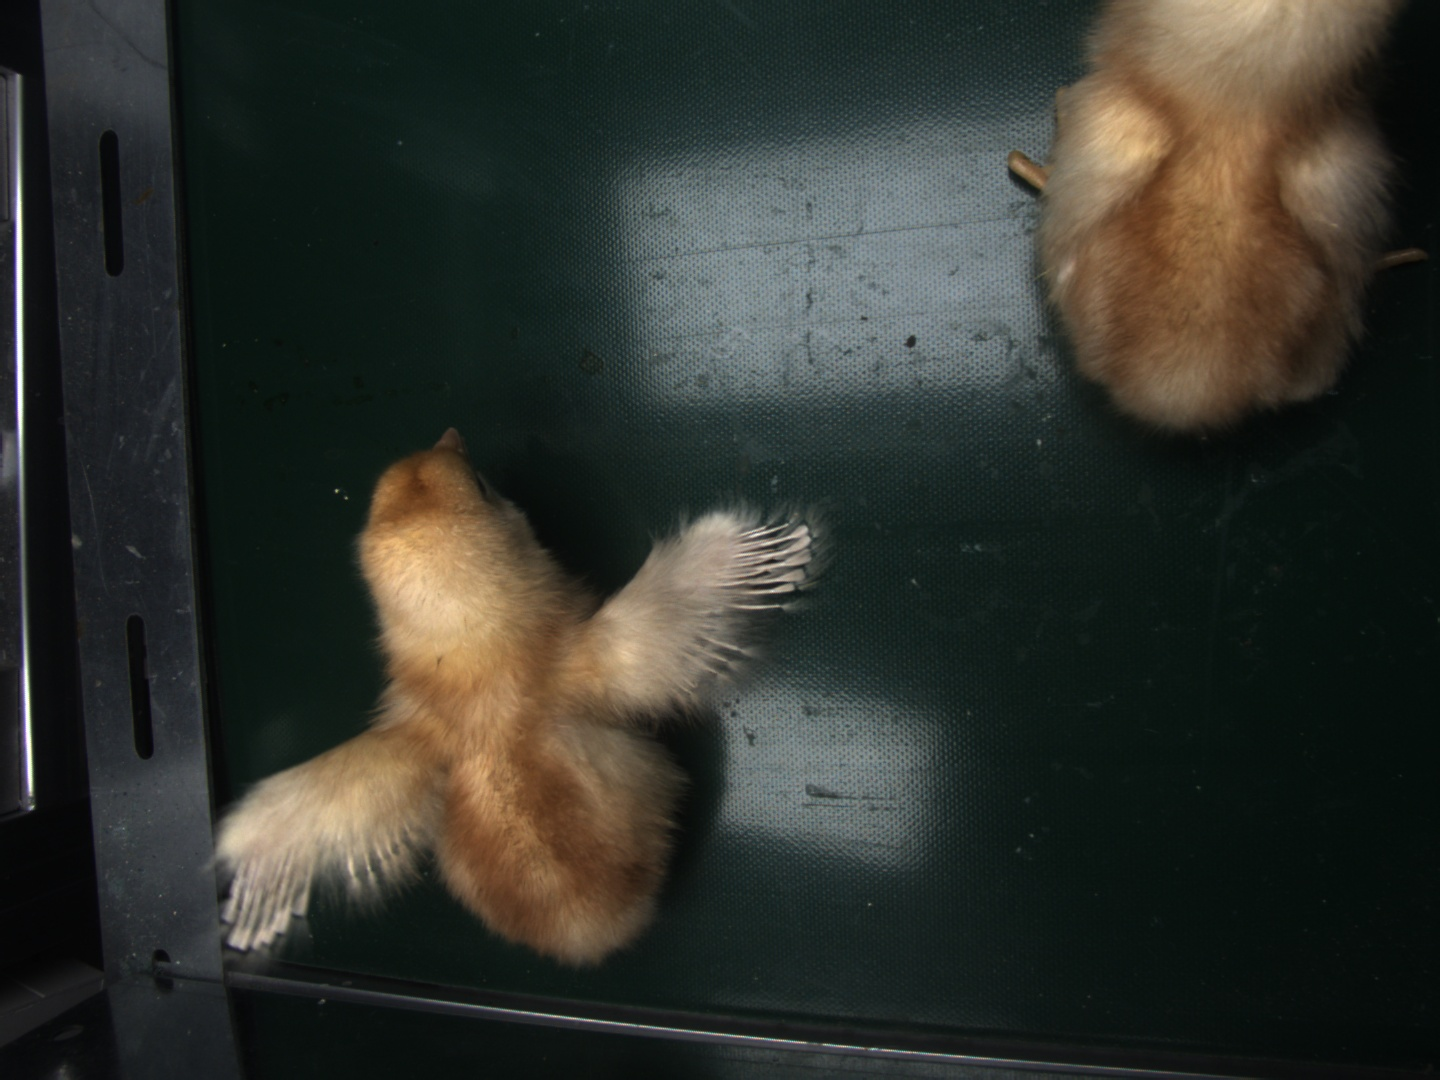female: (730, 511, 812, 608)
